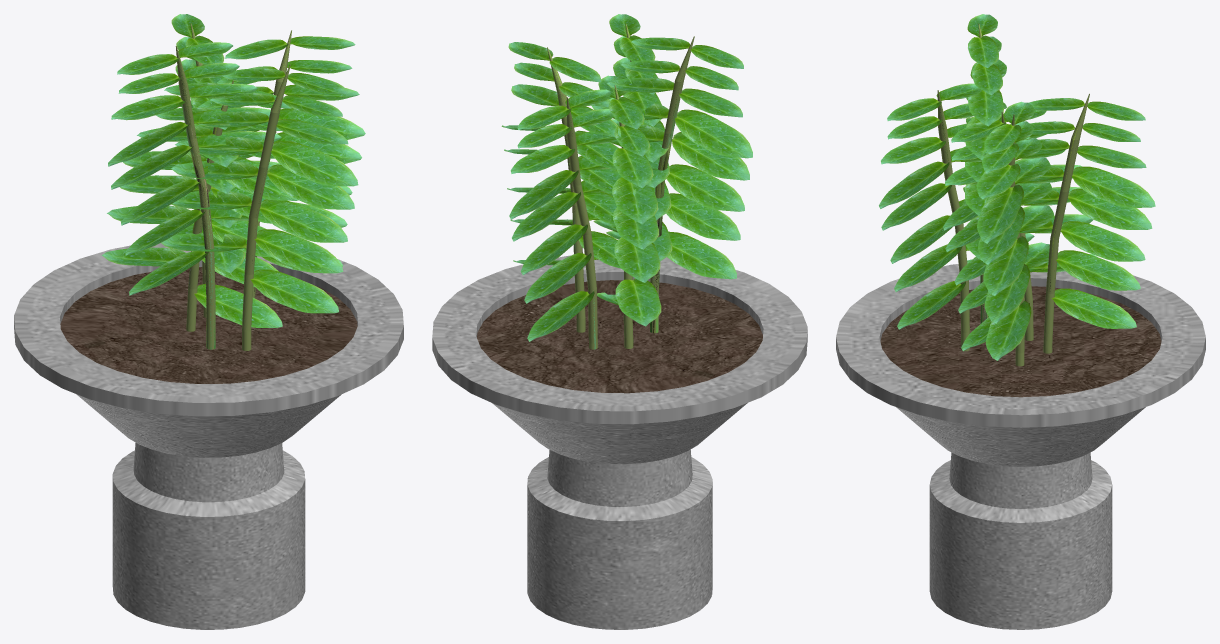
Rendered from Welcome Plant.fbx.
The picture shows the model from 3 angles, left to right: view 1: azimuth 30°, elevation 25°; view 2: azimuth 150°, elevation 25°; view 3: azimuth 270°, elevation 25°; orthographic projection. The views are drawn at different scales.
Parts seen in each view (by area): view 1: Cylinder; view 2: Cylinder; view 3: Cylinder.
Boxes of the visible parts, x1=… form: Cylinder: x1=14, y1=14, x2=403, y2=629; Cylinder: x1=432, y1=14, x2=807, y2=629; Cylinder: x1=836, y1=14, x2=1205, y2=629.
Size of the model in its own units: 50.55 by 81.78 by 50.55.
157 materials, 152 textured.
